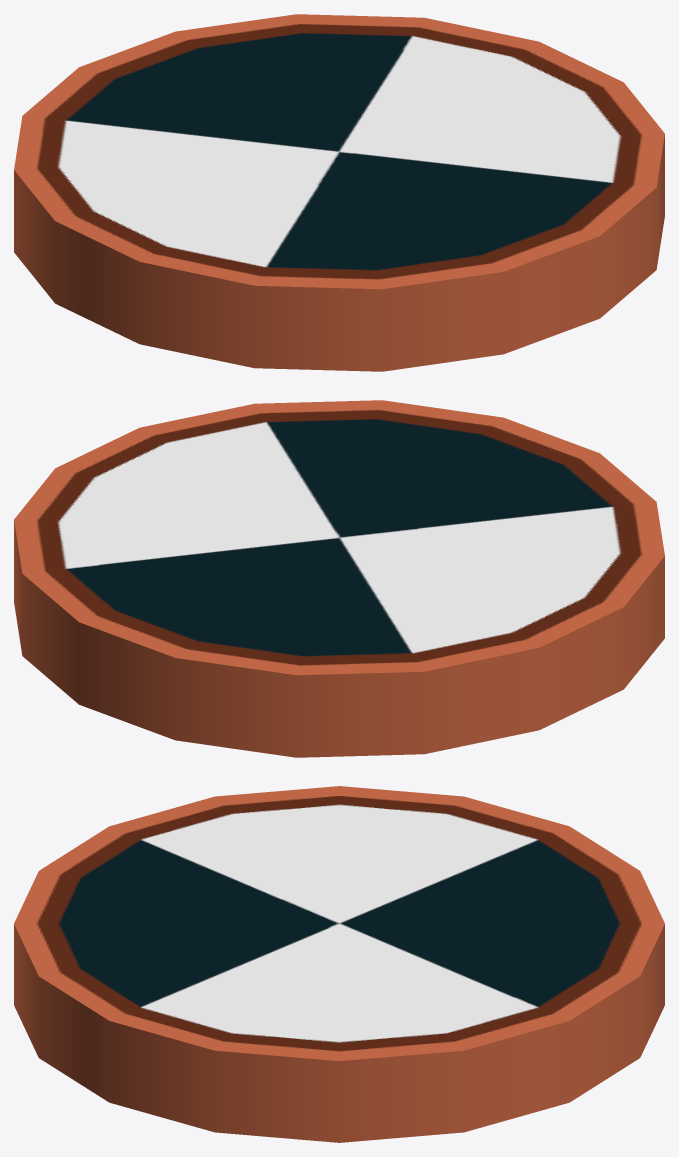
File: puzzle1_btn3_bottom.fbx
The picture shows the model from 3 angles, top to bottom: view 1: azimuth 30°, elevation 25°; view 2: azimuth 150°, elevation 25°; view 3: azimuth 270°, elevation 25°; orthographic projection.
Parts seen in each view (by area): view 1: levelBottom; view 2: levelBottom; view 3: levelBottom.
Boxes of the visible parts, x1,y1,x2,y2 form: levelBottom: [14, 14, 664, 371]; levelBottom: [14, 400, 664, 757]; levelBottom: [14, 786, 664, 1142].
Bounding box in the file's own units: 2.93 × 0.4059 × 2.93.
